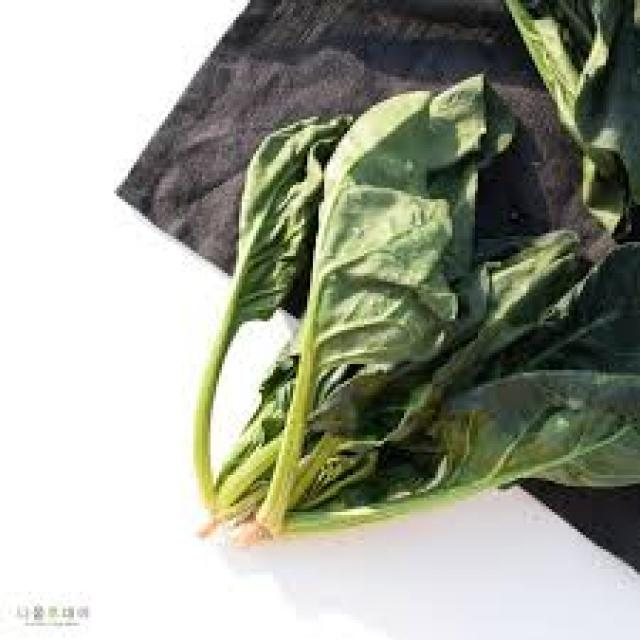Spinach bagged/loose: (196, 74, 640, 539)
